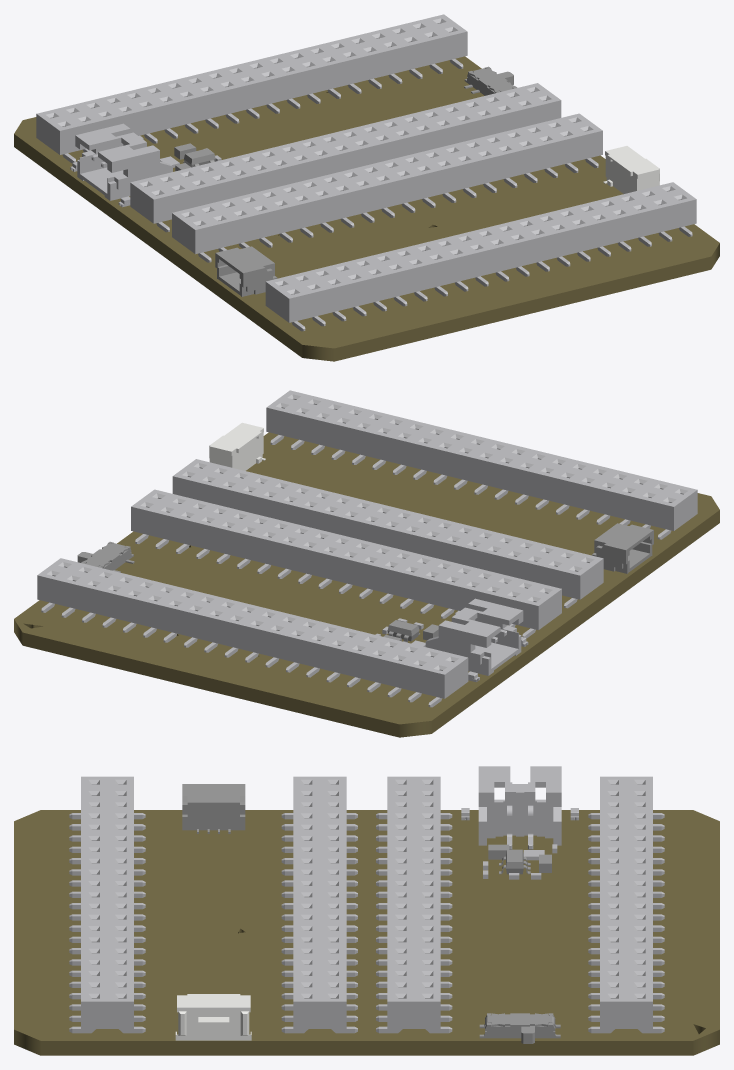
File: ada-5906.glb
3 views of the same model, one above another, from view 1: azimuth 30°, elevation 25°; view 2: azimuth 150°, elevation 25°; view 3: azimuth 270°, elevation 25° (orthographic). The views are drawn at different scales.
Visible parts, largest first — view 1: 0.5833333333333334_0.5833333333333334_0.5833333333333334_0.8, 0.16666666666666666_0.16666666666666666_0.08333333333333333_, 0.3333333333333333_0.3333333333333333_0.3333333333333333_0, 0.9166666666666666_0.9166666666666666_0.9166666666666666_0.8; view 2: 0.5833333333333334_0.5833333333333334_0.5833333333333334_0.8, 0.16666666666666666_0.16666666666666666_0.08333333333333333_, 0.3333333333333333_0.3333333333333333_0.3333333333333333_0, 0.9166666666666666_0.9166666666666666_0.9166666666666666_0.8; view 3: 0.16666666666666666_0.16666666666666666_0.08333333333333333_, 0.5833333333333334_0.5833333333333334_0.5833333333333334_0.8, 0.3333333333333333_0.3333333333333333_0.3333333333333333_0, 0.9166666666666666_0.9166666666666666_0.9166666666666666_0.8.
Part boxes in pixels (box(x1,y1,x2,y2)): 0.5833333333333334_0.5833333333333334_0.5833333333333334_0.8: box(36, 14, 696, 331); 0.16666666666666666_0.16666666666666666_0.08333333333333333_: box(14, 56, 719, 361); 0.3333333333333333_0.3333333333333333_0.3333333333333333_0: box(174, 66, 517, 296); 0.9166666666666666_0.9166666666666666_0.9166666666666666_0.8: box(603, 146, 659, 193); 0.5833333333333334_0.5833333333333334_0.5833333333333334_0.8: box(37, 390, 697, 707); 0.16666666666666666_0.16666666666666666_0.08333333333333333_: box(14, 432, 719, 737); 0.3333333333333333_0.3333333333333333_0.3333333333333333_0: box(77, 523, 653, 642); 0.9166666666666666_0.9166666666666666_0.9166666666666666_0.8: box(209, 422, 265, 470); 0.16666666666666666_0.16666666666666666_0.08333333333333333_: box(14, 810, 719, 1055); 0.5833333333333334_0.5833333333333334_0.5833333333333334_0.8: box(69, 766, 664, 1033); 0.3333333333333333_0.3333333333333333_0.3333333333333333_0: box(182, 784, 560, 1043); 0.9166666666666666_0.9166666666666666_0.9166666666666666_0.8: box(175, 994, 251, 1040).
Bounding box in the file's own units: 5.33 × 0.6368 × 6.73.
